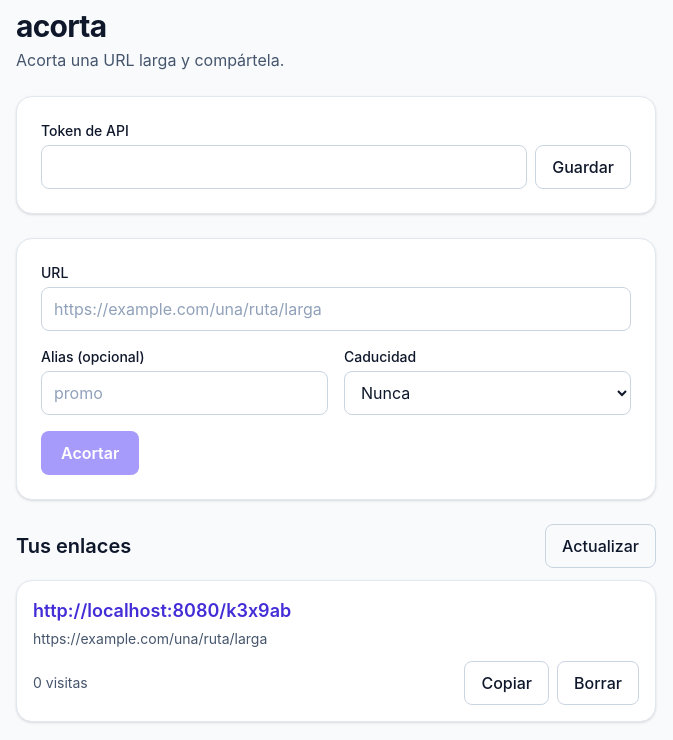
listado › WEB-13: Actualizar vuelve a pedir el listado y muestra las visitas nuevas
Click the button "Actualizar" at [601, 546], box [545,524,656,568]
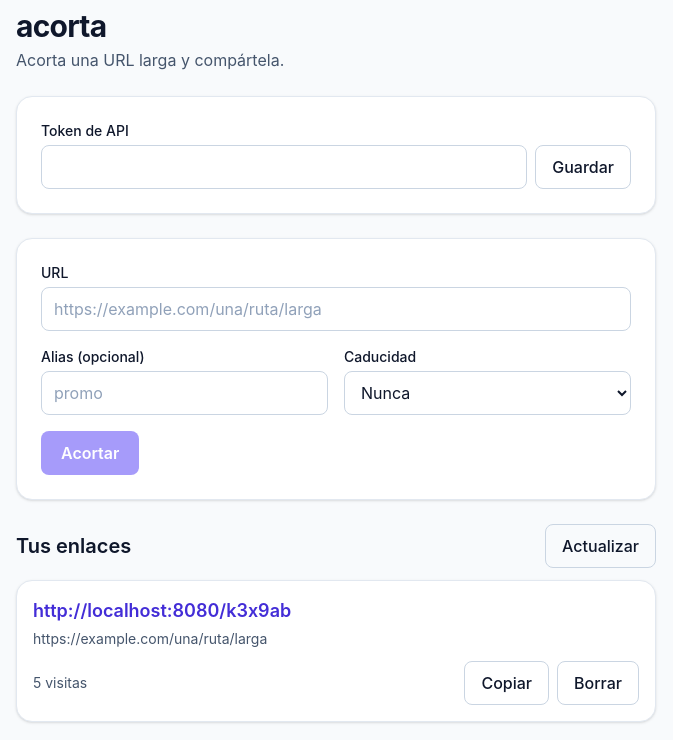
Expected: the text "5 visitas" is shown, [33,674,87,691]
Expected: the text "0 visitas" is gone
